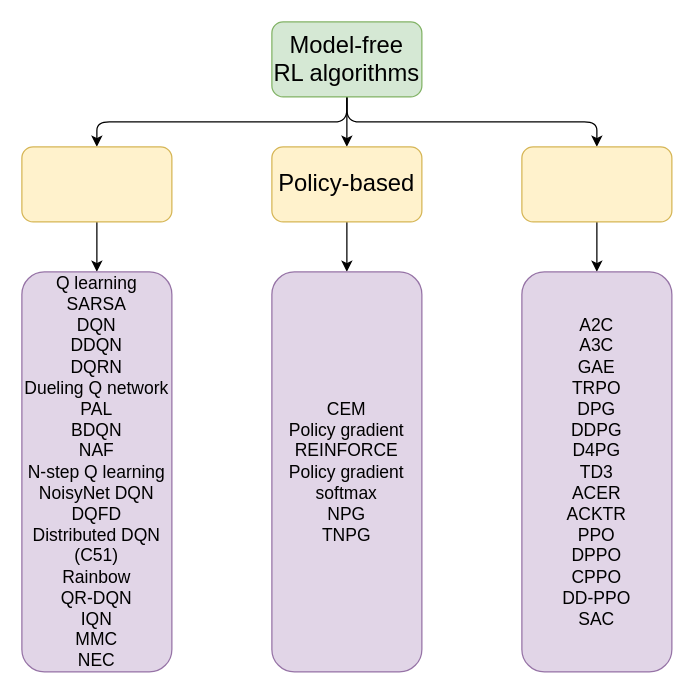
The diagram is 694 pixels wide and 694 high, and some of its shapes have lost their labels. The box of each missing label's shape, as (x1, y1, x2, y2) in pixels:
Actor-critic: (521, 146, 672, 222)
Value-based: (21, 146, 172, 222)
